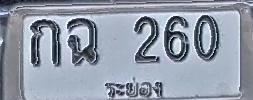0: (194, 14, 220, 61)
2: (134, 16, 160, 64)
6: (164, 15, 189, 62)
A01: (30, 19, 61, 67)
A09: (67, 18, 100, 66)
RYG: (99, 75, 165, 100)
